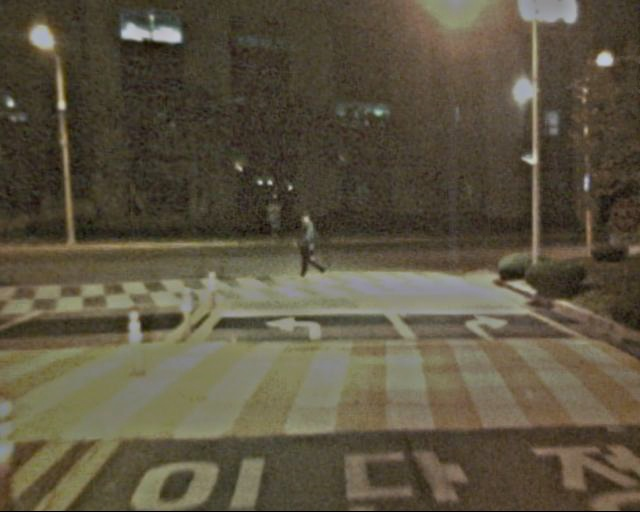person: (292, 213, 323, 289)
